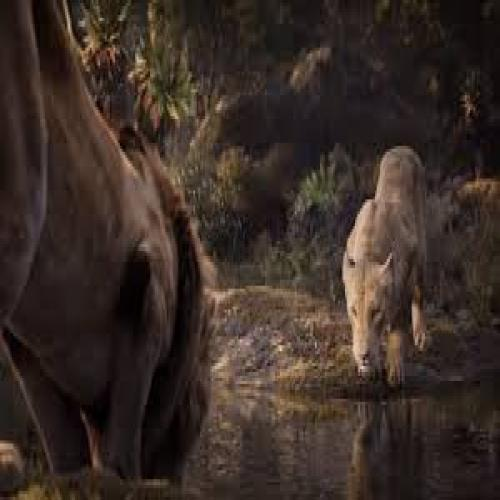lion-endangered: (2, 0, 212, 494), (344, 143, 430, 386)
